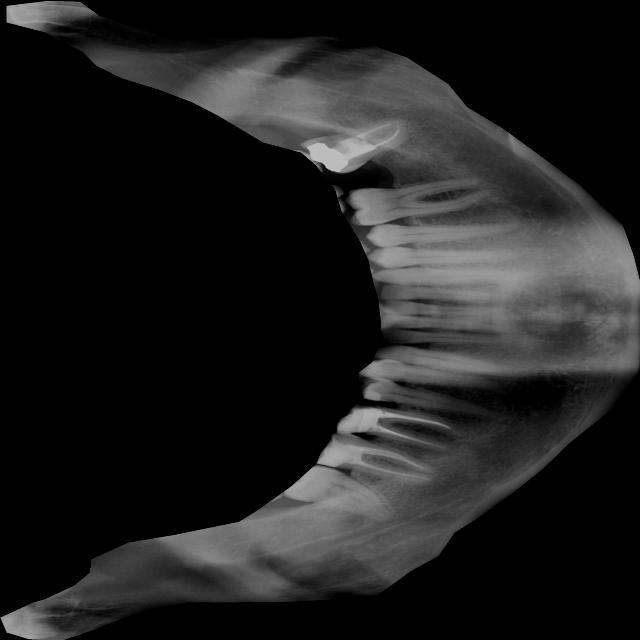mandibula: (0, 0, 640, 640)
